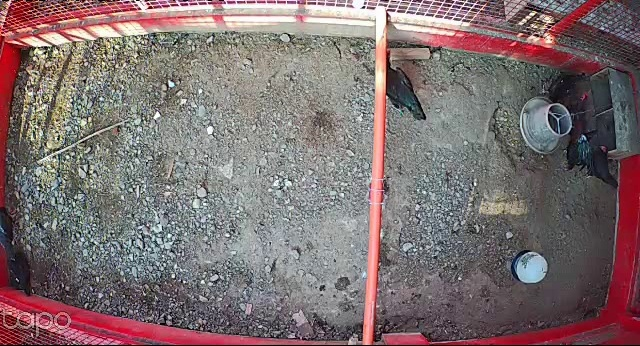Chicken: (385, 56, 429, 122), (6, 251, 40, 298), (583, 145, 619, 188), (538, 74, 587, 103)
Drinker: (510, 248, 551, 286)
Feeder: (519, 94, 574, 156)
Rooster: (557, 91, 595, 179)
